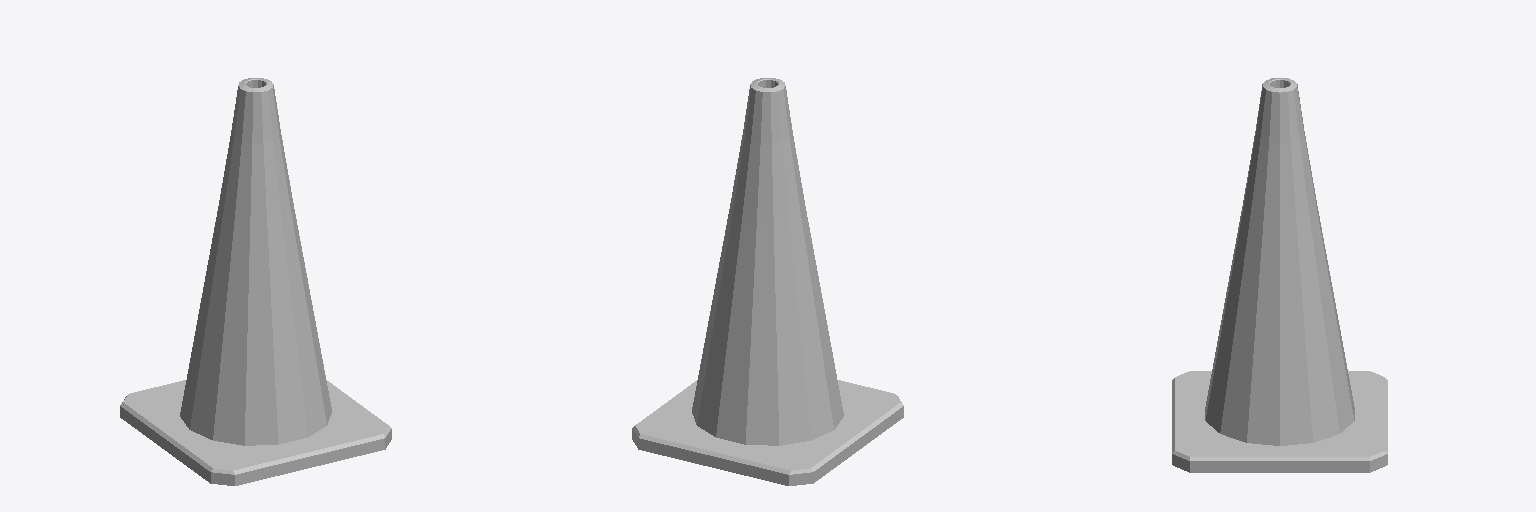
Rendered from road_cone_obj.obj.
3 views of the same model, side by side, from view 1: azimuth 30°, elevation 25°; view 2: azimuth 150°, elevation 25°; view 3: azimuth 270°, elevation 25° (orthographic).
Parts seen in each view (by area): view 1: cone; view 2: cone; view 3: cone.
Part boxes in pixels (left/top/right/bottom): cone: left=120, top=78, right=391, bottom=485; cone: left=632, top=78, right=903, bottom=485; cone: left=1172, top=78, right=1387, bottom=472.
Bounding box in the file's own units: 34.07 × 61.89 × 35.21.